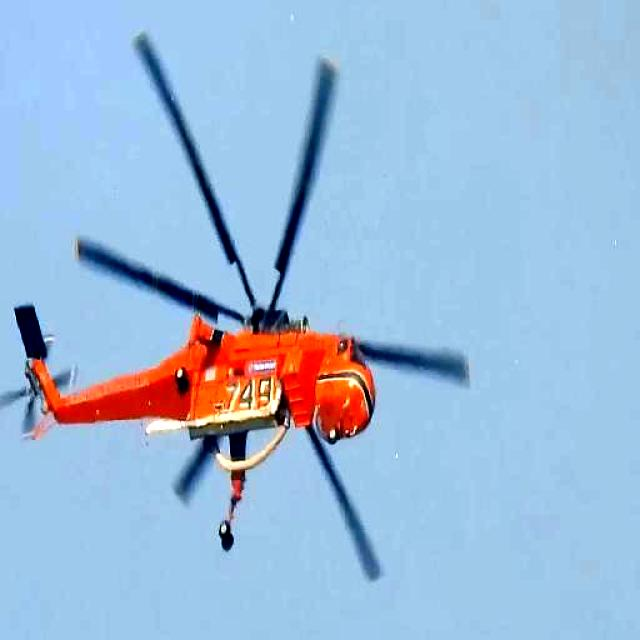drone: (0, 24, 464, 581)
